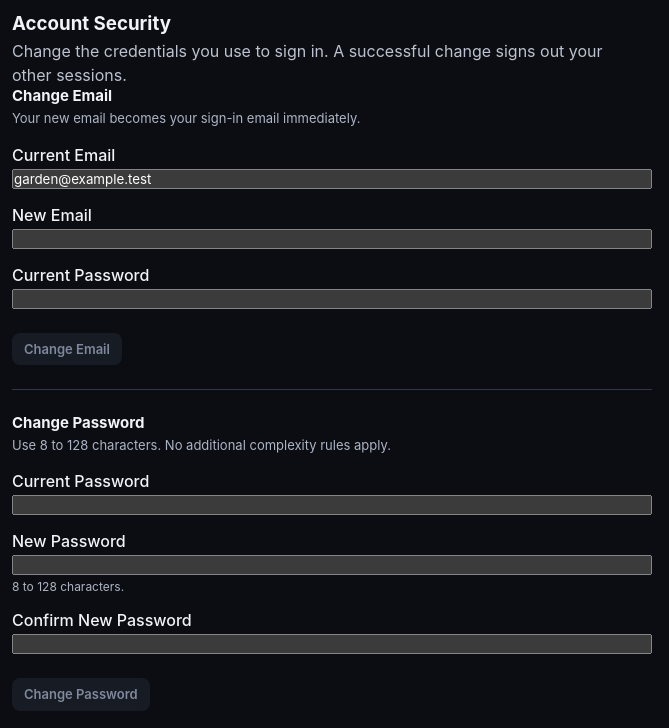
Account Security settings › reconciles the canonical email response and clears only the email form's password
Type " New.Identity@Example.TEST " into the field labelled "New Email" at x=332, y=238, box [12,228,652,248]
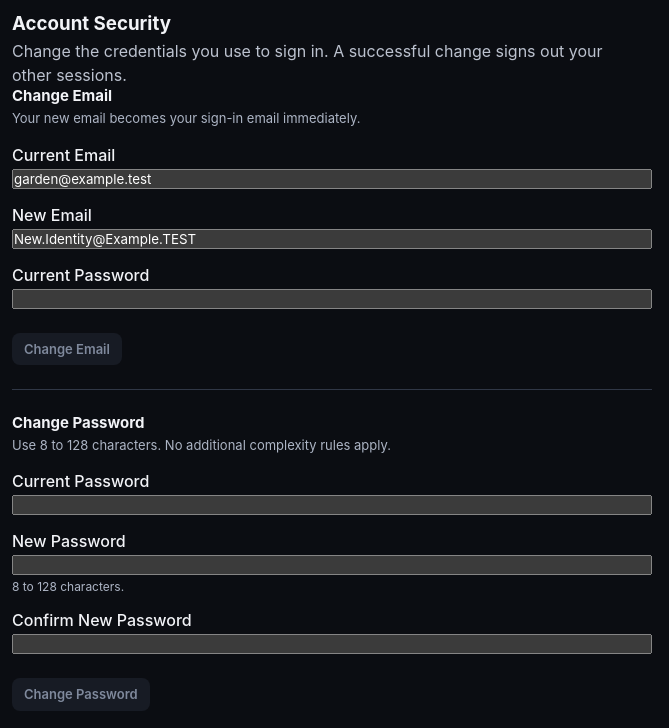
Type "current-password" into the password field labelled "Current Password" below "Current Email" at x=332, y=298, box [12,288,652,308]
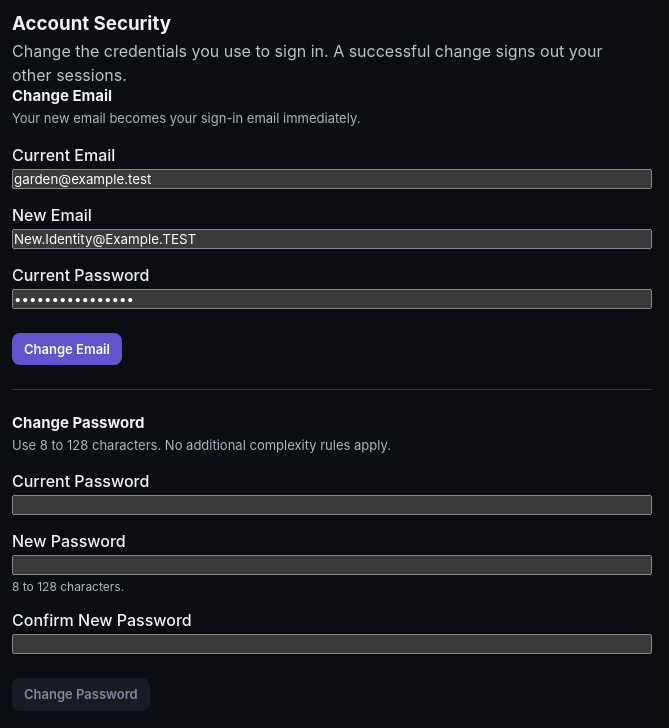
Click the button "Change Email" at x=67, y=349, box [12,332,122,365]
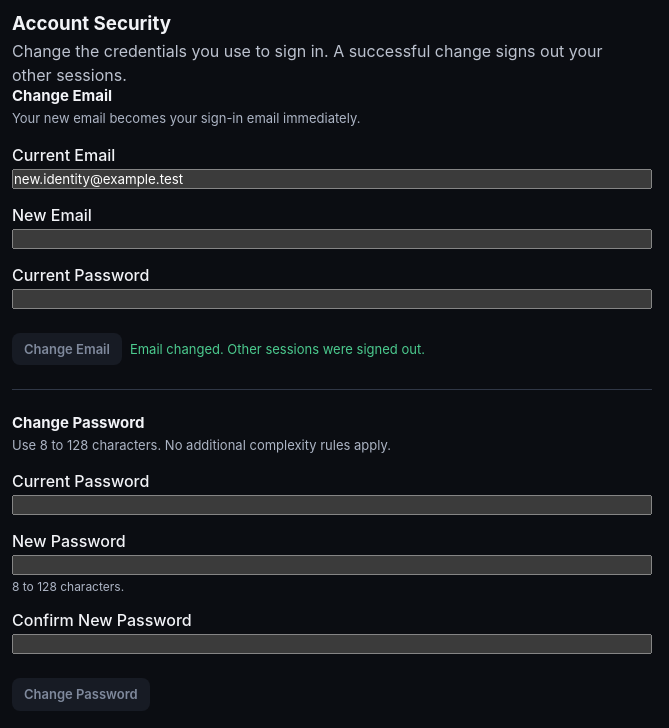
Result: the field labelled "Current Email" holds "new.identity@example.test" at [12,168,652,188]
Result: the field labelled "New Email" is empty at [12,228,652,248]
Result: the password field labelled "Current Password" below "Current Email" is empty at [12,288,652,308]
